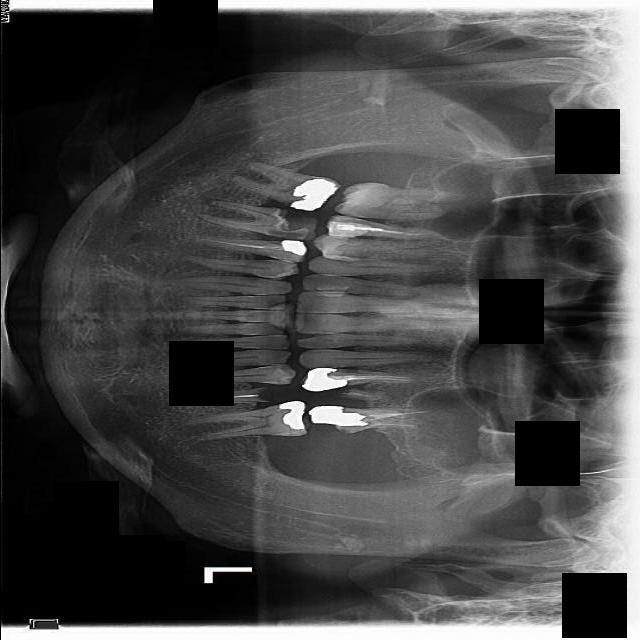71: (337, 223, 384, 235)
72: (199, 387, 268, 406), (340, 386, 391, 403)
74: (189, 238, 282, 252), (365, 406, 429, 421), (329, 375, 410, 383), (380, 228, 419, 236), (226, 393, 258, 398), (370, 423, 417, 426)
NucleOSS Implant: (284, 167, 336, 220), (306, 403, 369, 430), (299, 365, 348, 393), (277, 400, 307, 432), (281, 237, 308, 256)
Sterngold Implant: (264, 207, 319, 247), (298, 332, 337, 341), (256, 388, 271, 404)
Straumann Implant: (310, 233, 359, 261), (325, 219, 369, 240), (311, 284, 350, 293), (314, 290, 344, 296)
